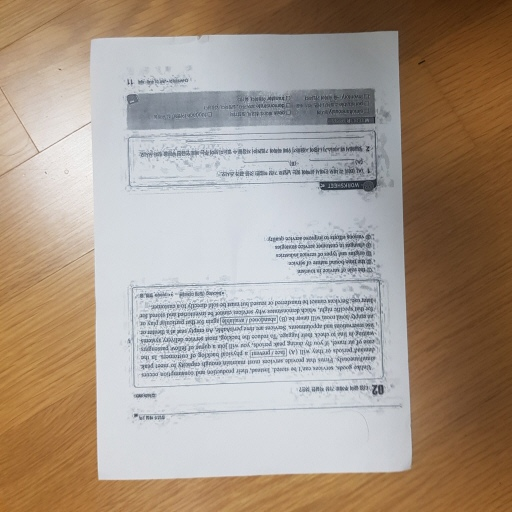Paper_2: (84, 23, 418, 492)
